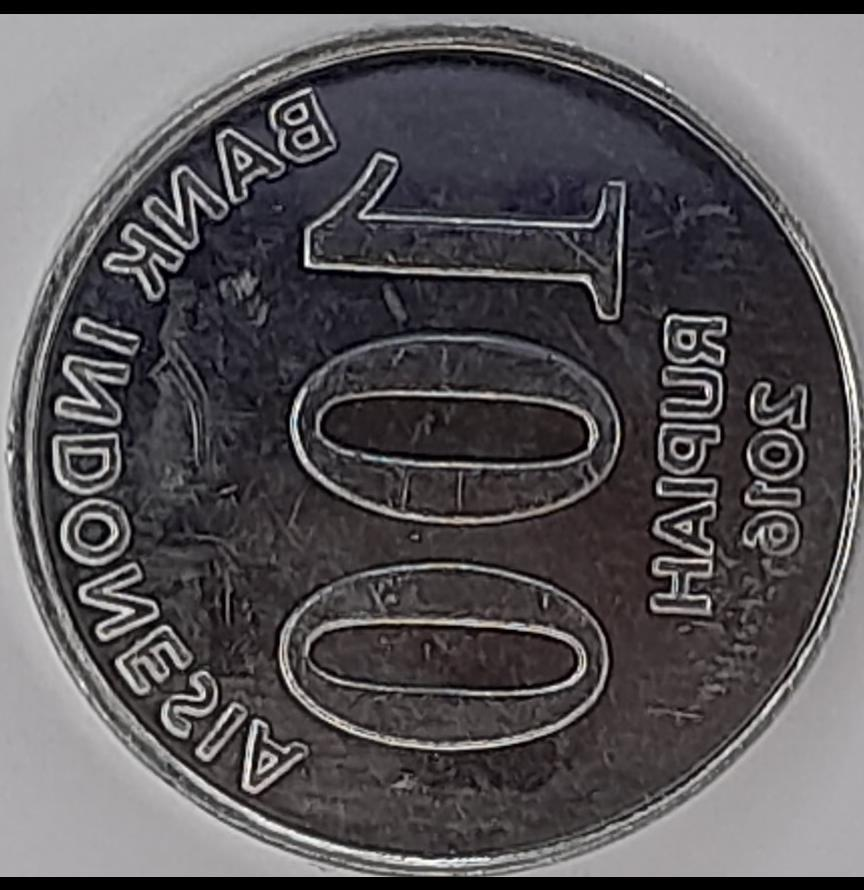coin_100_e2016: (0, 18, 863, 877)
